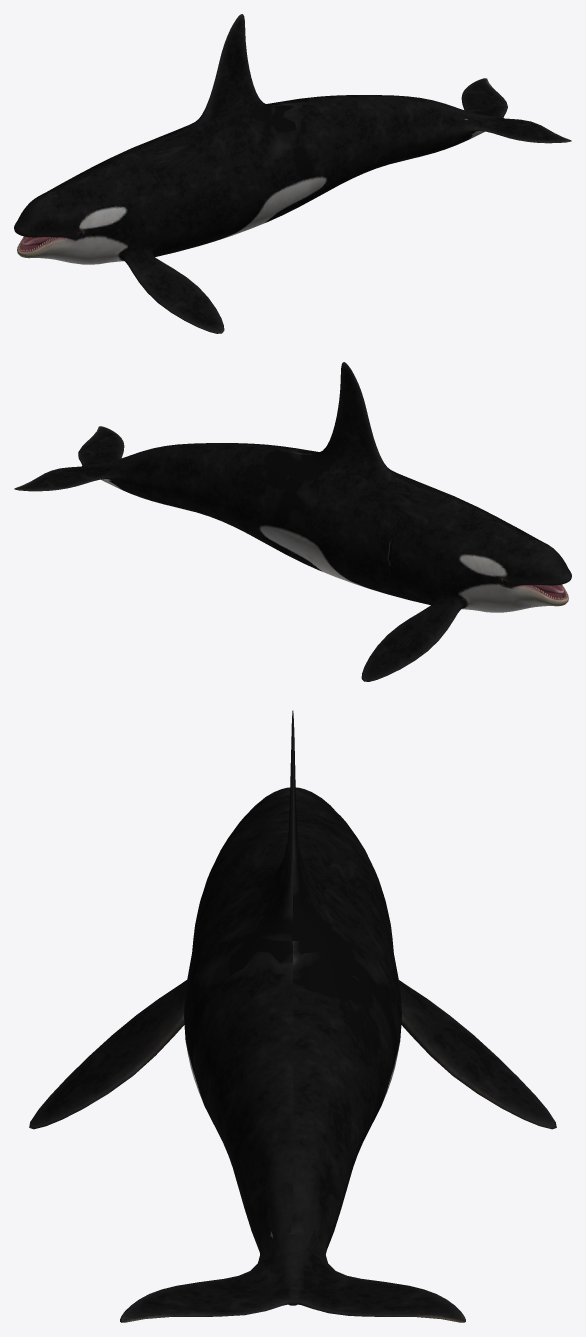
File: ballena.glb
The picture shows the model from 3 angles, top to bottom: view 1: azimuth 30°, elevation 25°; view 2: azimuth 150°, elevation 25°; view 3: azimuth 270°, elevation 25°; orthographic projection. The views are drawn at different scales.
Visible parts, largest first — view 1: Object_2; view 2: Object_2; view 3: Object_2.
Part boxes in pixels (x1,y1,x2,y2): Object_2: (14, 14, 571, 333); Object_2: (14, 362, 571, 681); Object_2: (29, 710, 556, 1322).
Size of the model in its own units: 87.86 by 40.93 by 39.09.
1 material, 1 textured.
